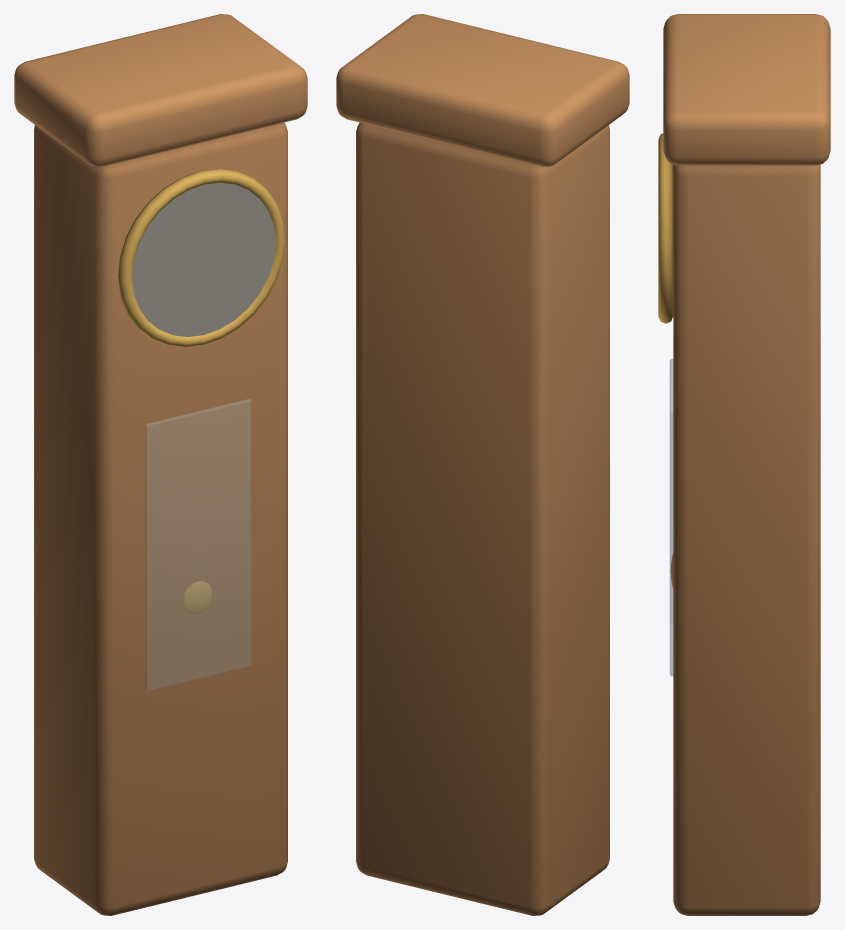
Rendered from gift-gus.glb.
3 views of the same model, side by side, from view 1: azimuth 30°, elevation 25°; view 2: azimuth 150°, elevation 25°; view 3: azimuth 270°, elevation 25° (orthographic).
Parts seen in each view (by area): view 1: gift-gus; view 2: gift-gus; view 3: gift-gus.
Boxes of the visible parts, box(x1,y1,x2,y2) form: gift-gus: box(14, 14, 307, 915); gift-gus: box(336, 14, 629, 915); gift-gus: box(658, 14, 830, 915).
Size of the model in its own units: 0.52 by 1.82 by 0.35.
